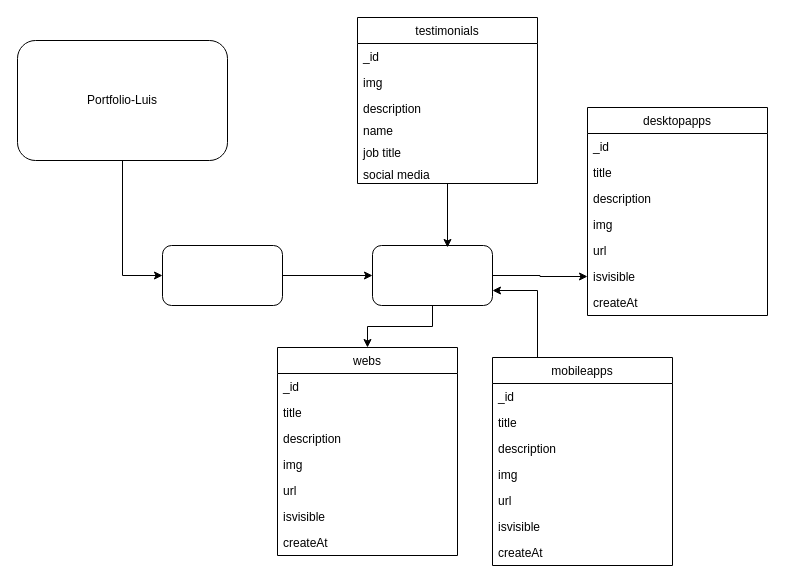
Some shapes in this 785 by 586 pixel diagram are drawn without their labels. The centre of each missing label's shape, as x and y in pixels:
"API Azure Function" belongs at [222,275].
"Azure Cosmo DB (MongoDB)" belongs at [432,275].
